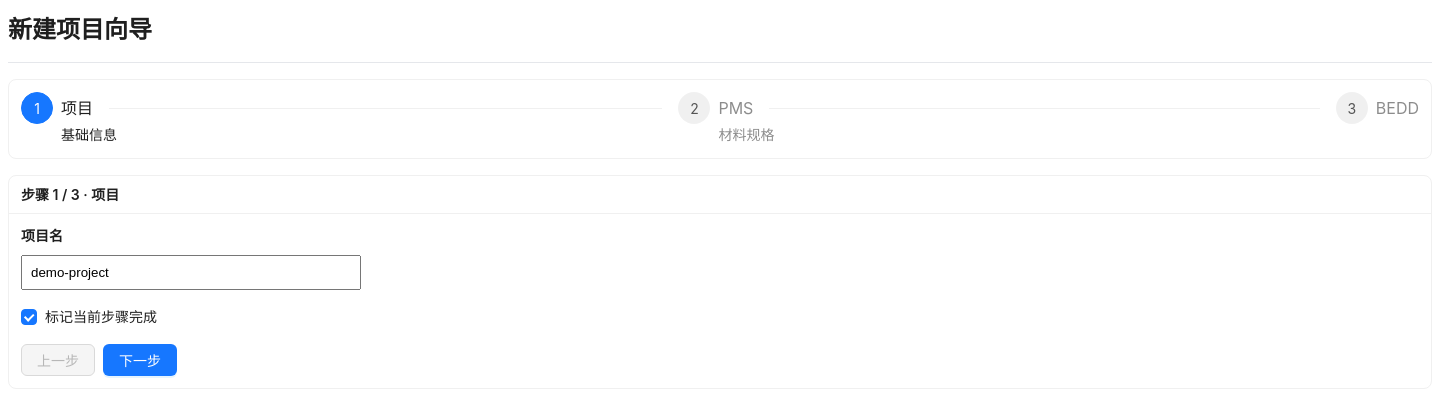
Scenario: ProjectWizardPage › shows finish button on last step
The image size is (1440, 406).
Click the button with test id "wizard-next": [140, 360] box [103,344,177,376]
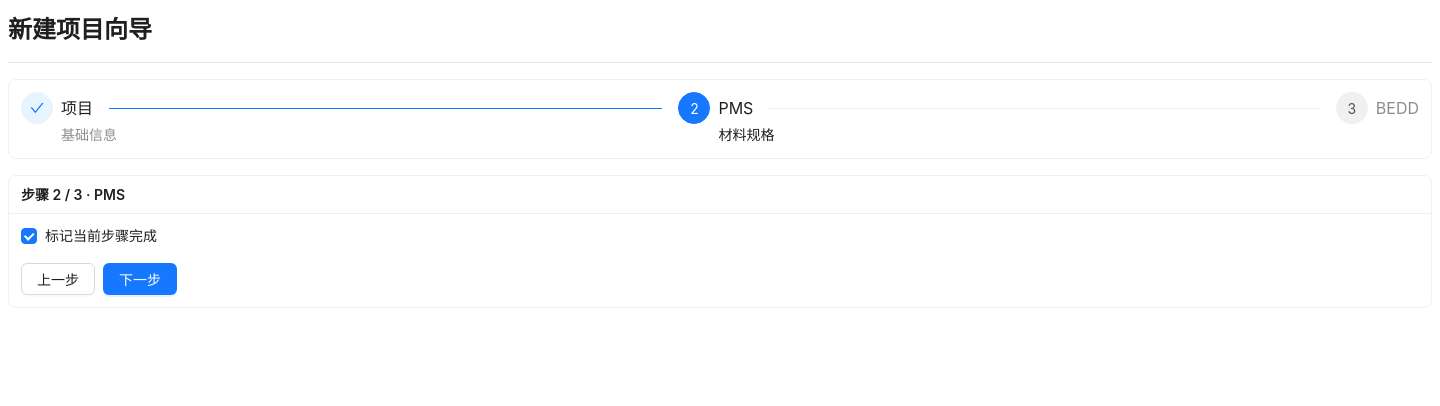
Click the button with test id "wizard-next": [140, 279] box [103,263,177,295]
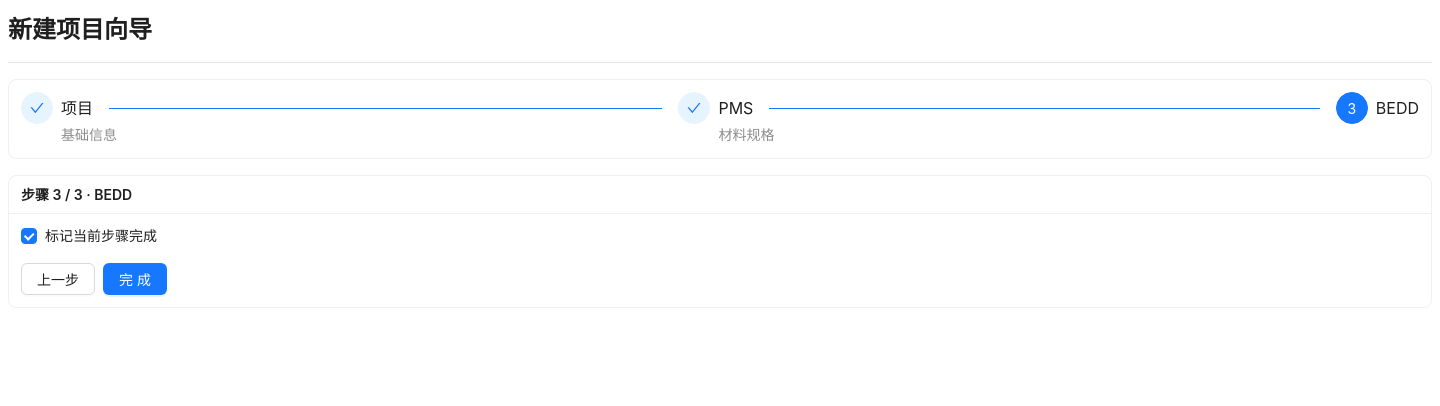
Result: the button with test id "wizard-finish" is shown at [103,263,167,295]
